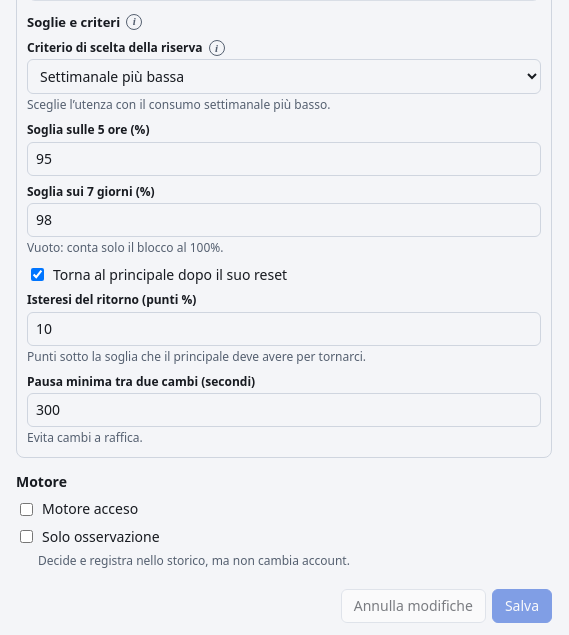
Test: RulesPage: flusso a lista › modifica di motore, osservazione, soglie, isteresi e pausa
This screenshot has width=569, height=635.
(page scrolled)
Click the checkbox labelled "Motore acceso": (26, 509) 20,503 -> 33,516
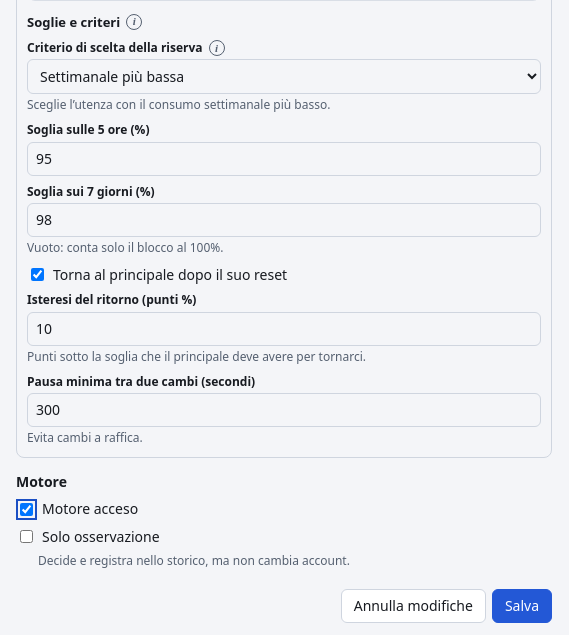
Click the checkbox labelled "Solo osservazione": (26, 537) 20,530 -> 33,543
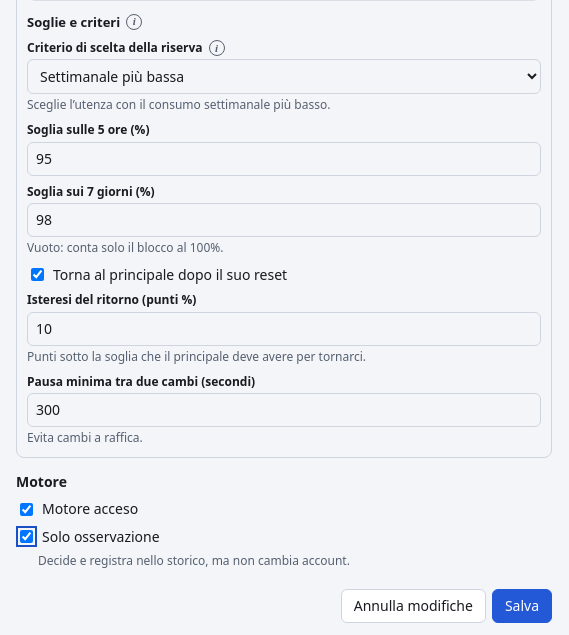
Replace the text in the number field labelled "Soglia sulle 5 ore (%)" with "90": (284, 159) 27,142 -> 541,176
Clear the number field labelled "Soglia sui 7 giorni (%)": (284, 220) 27,204 -> 541,237
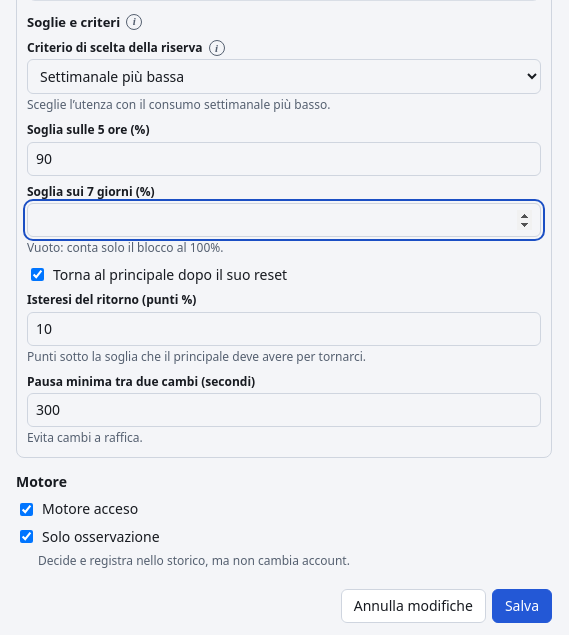
Replace the text in the number field labelled "Isteresi del ritorno (punti %)" with "5": (284, 329) 27,312 -> 541,346
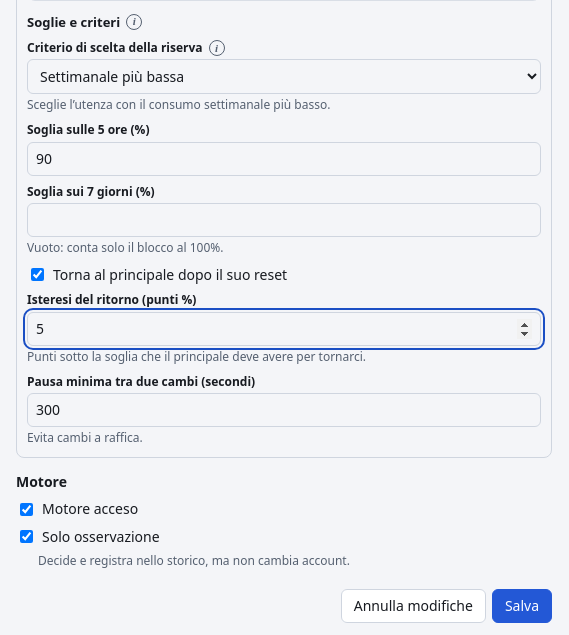
Replace the text in the number field labelled "Pausa minima tra due cambi (secondi)" with "600": (284, 410) 27,393 -> 541,427
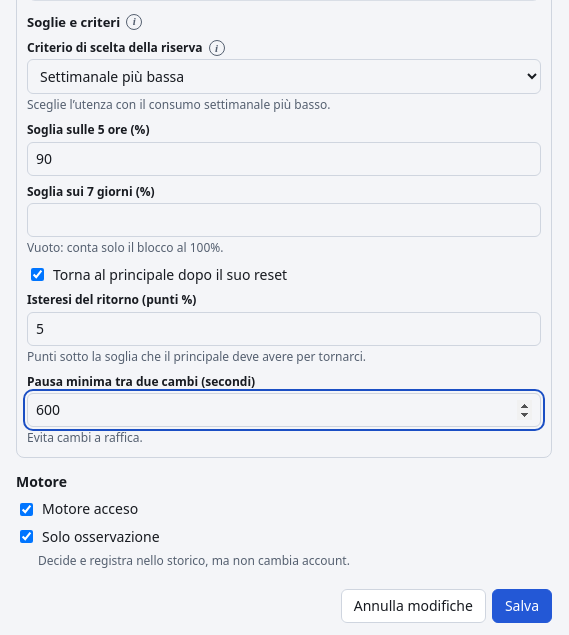
Click the button "Salva": (522, 606) 492,589 -> 552,623
(page scrolled)
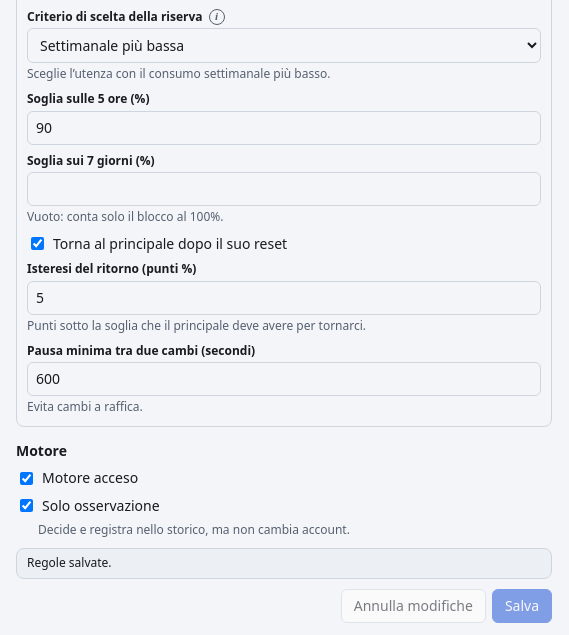
expect the text "Regole salvate." is shown: met, box 16,548 -> 552,579
expect the button "Salva" is disabled: met, box 492,589 -> 552,623
